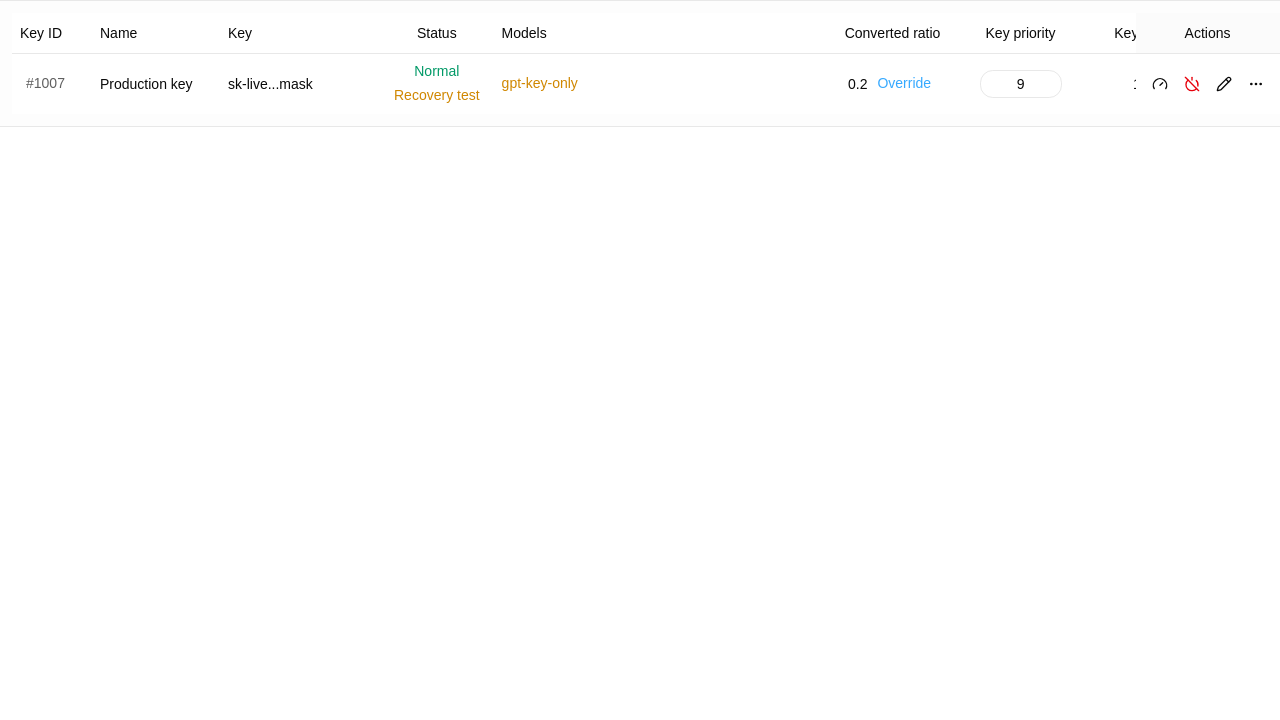
Test: 子密钥编辑弹窗展示上游原始倍率和覆盖状态
Click the button named "Edit": (1224, 84) [1210,70,1238,98]
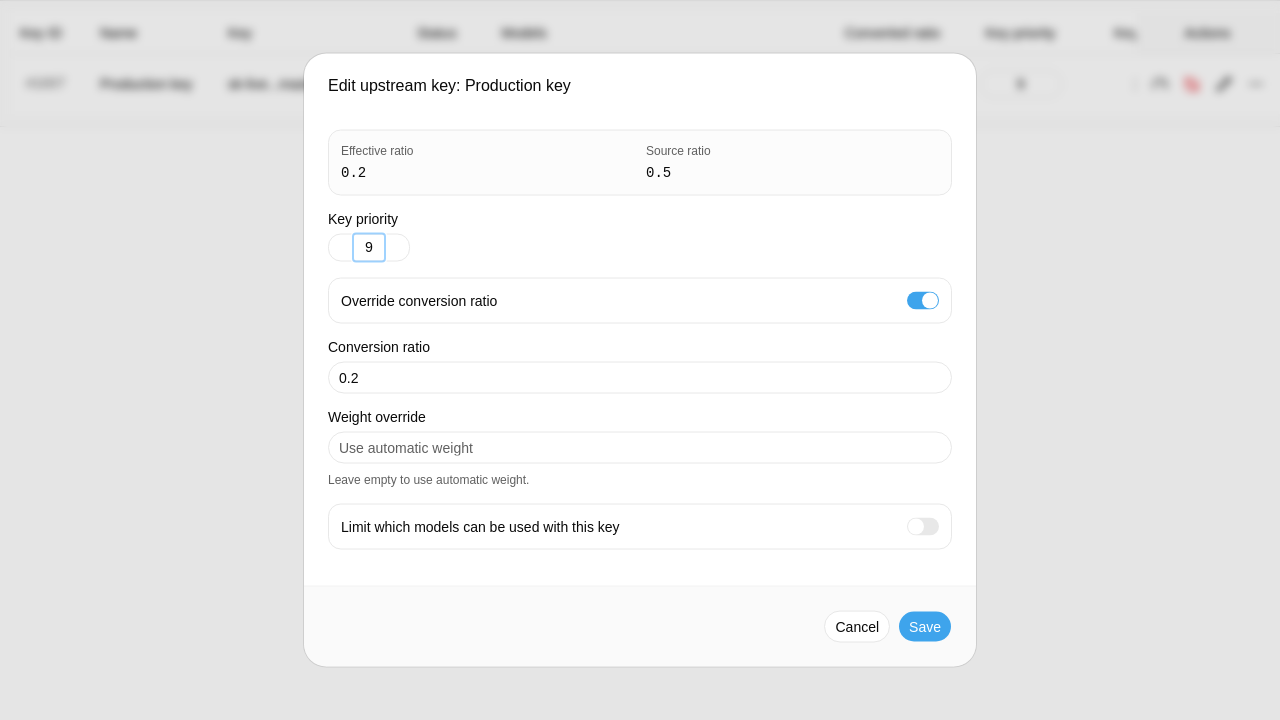
Expected: the text "Source ratio" is shown, [646,144,711,158]
Expected: the text "0.5" is shown, [646,164,671,180]
Expected: the switch named "Override conversion ratio" in the row of "Override conversion ratio" is checked, [907,291,939,310]
